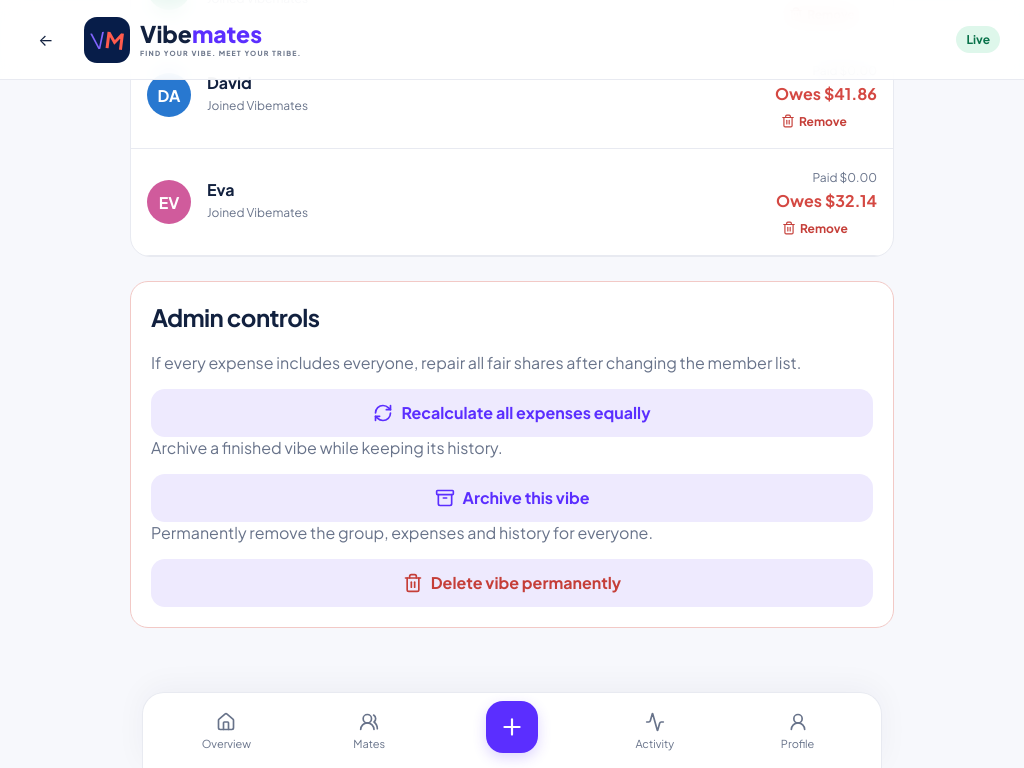
Test: uses an in-app confirmation before permanently deleting a vibe
(page scrolled)
Click the button "Delete vibe permanently".
click(512, 583)  # box x1=151 y1=559 x2=873 y2=607
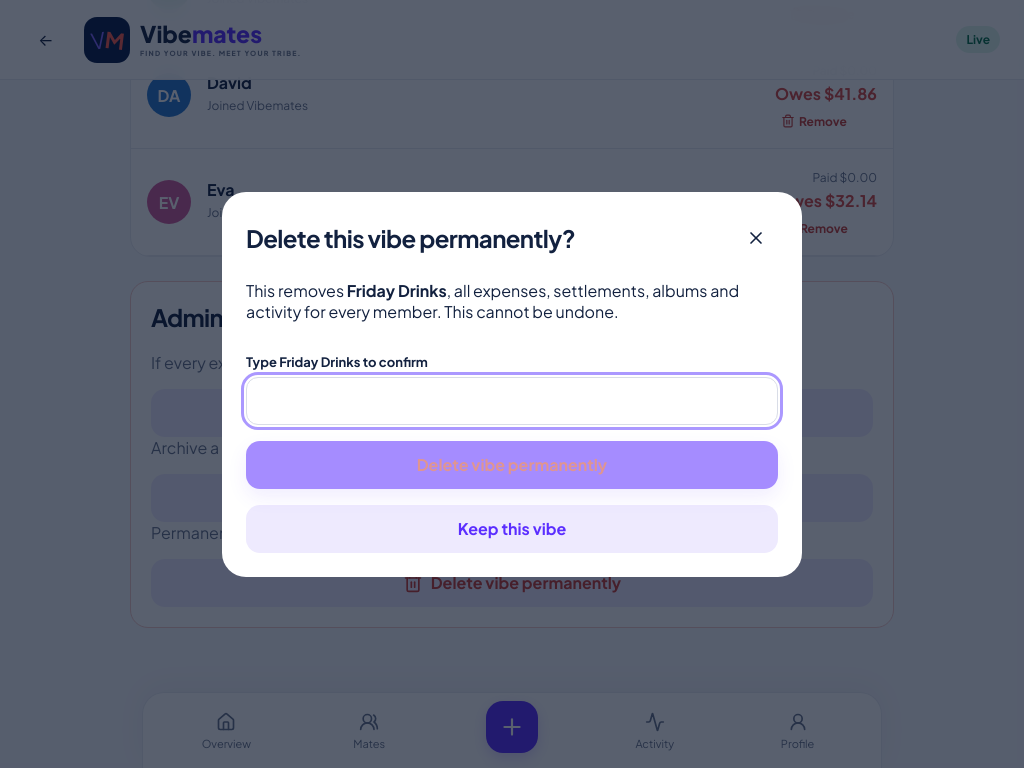
Expected: the dialog "Delete this vibe permanently?" is shown
Expected: the button "Delete vibe permanently" is disabled, x1=246 y1=440 x2=778 y2=488
Type "Friday Drinks" into the field labelled "Type Friday Drinks to confirm".
click(512, 400); type("Friday Drinks")  # box x1=246 y1=376 x2=778 y2=424
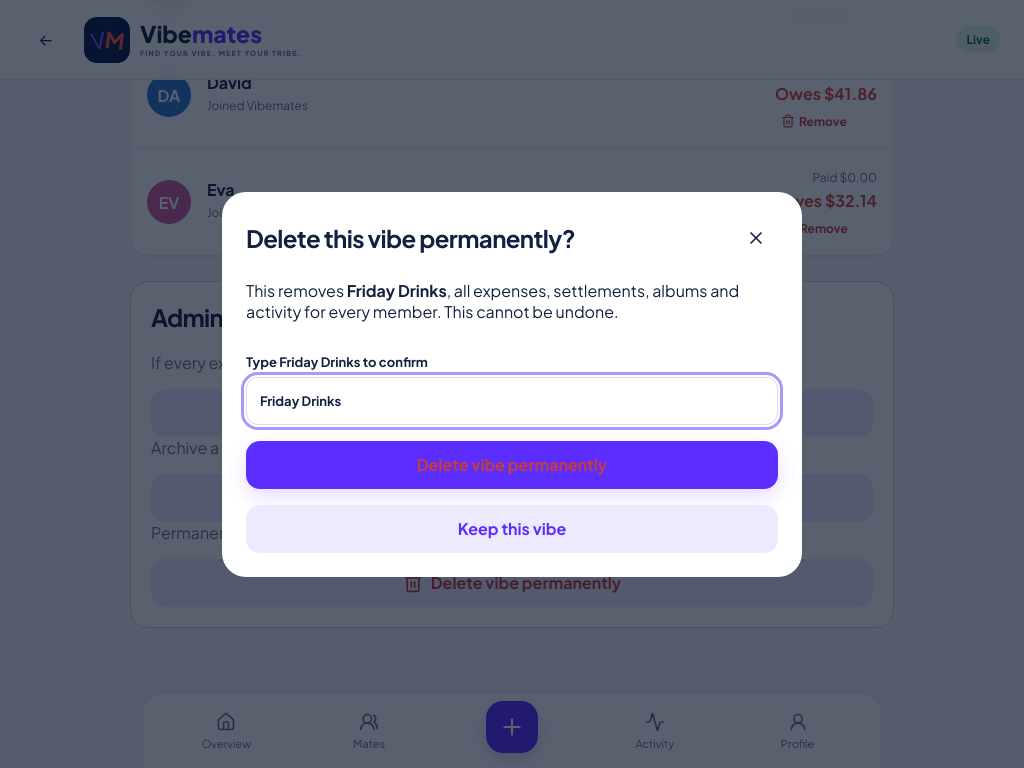
Expected: the button "Delete vibe permanently" is enabled, x1=246 y1=440 x2=778 y2=488
